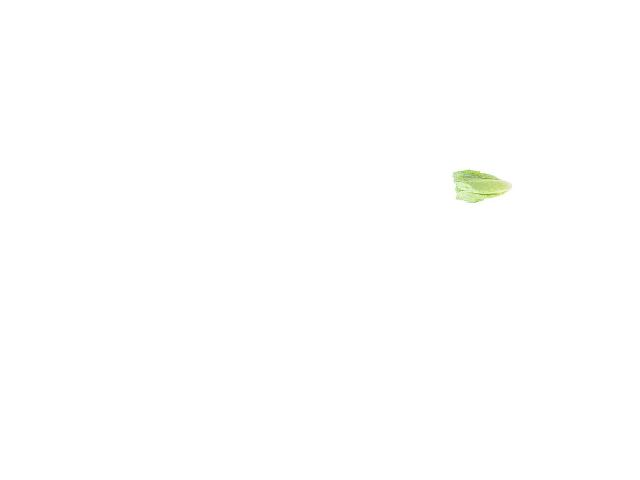lettuce: (449, 164, 514, 208)
